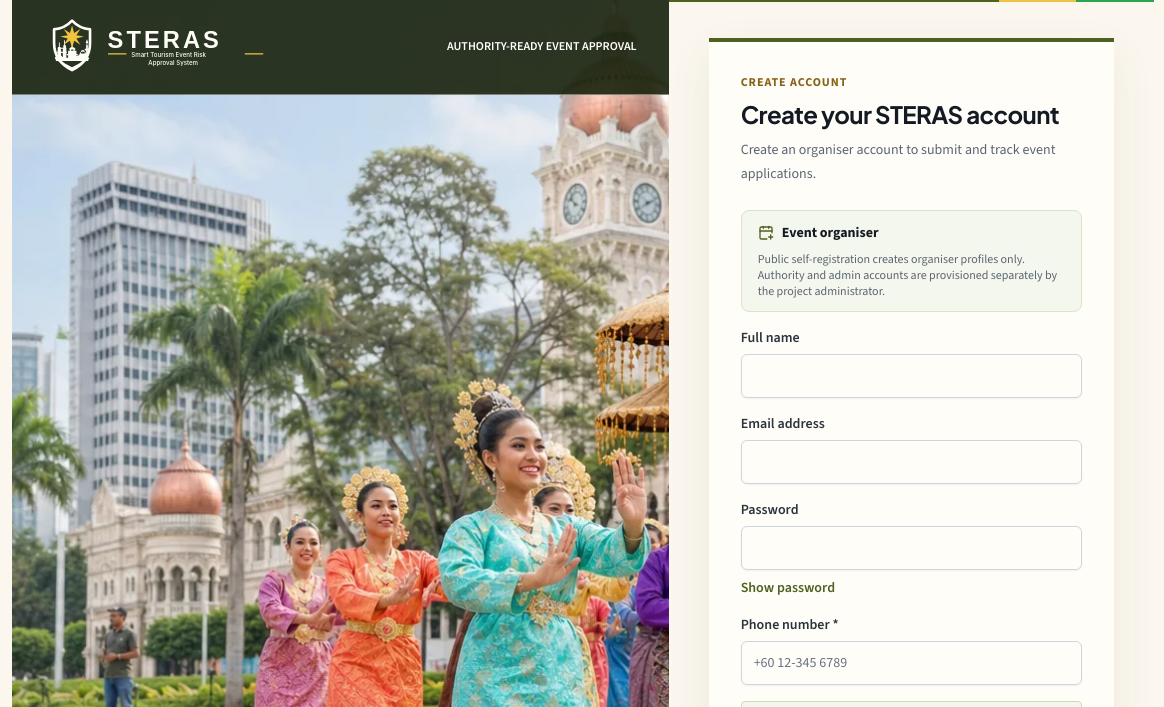
Test: RegisterPage › preserves input and re-enables submission when registration fails
Step 1. Type "Test Organizer" into the field labelled "Full name" → (911, 376), box [741,354,1082,398]
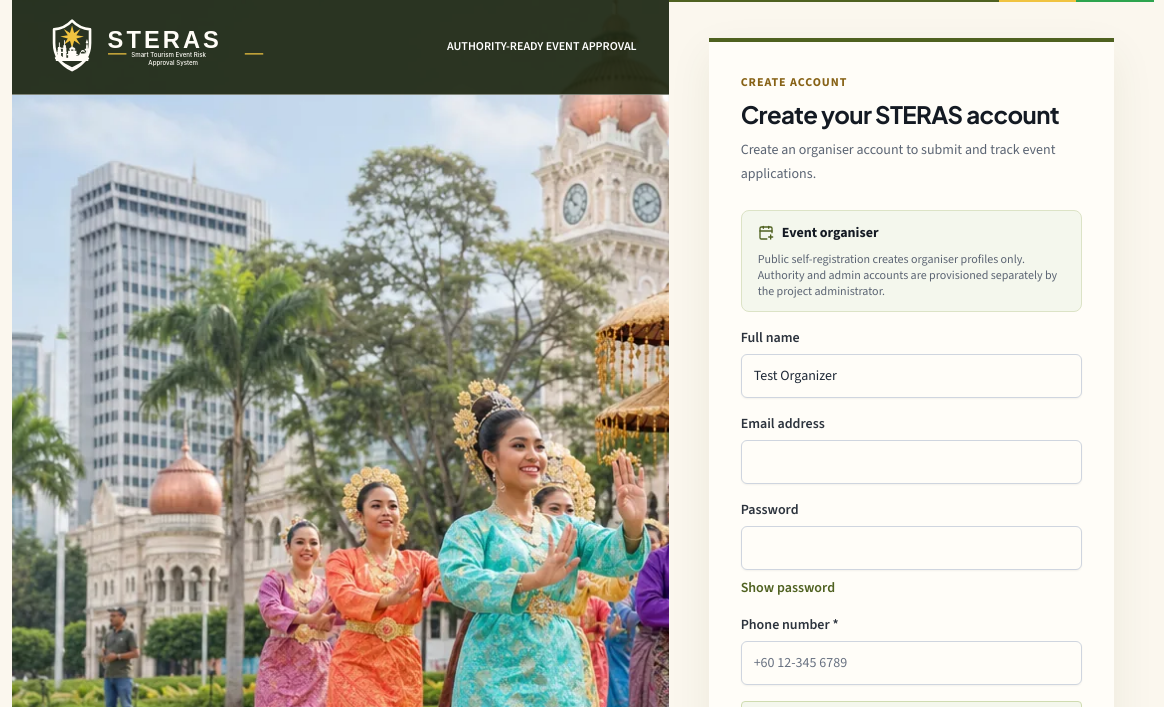
Step 2. Type "test@example.com" into the field labelled "Email address" → (911, 462), box [741,440,1082,484]
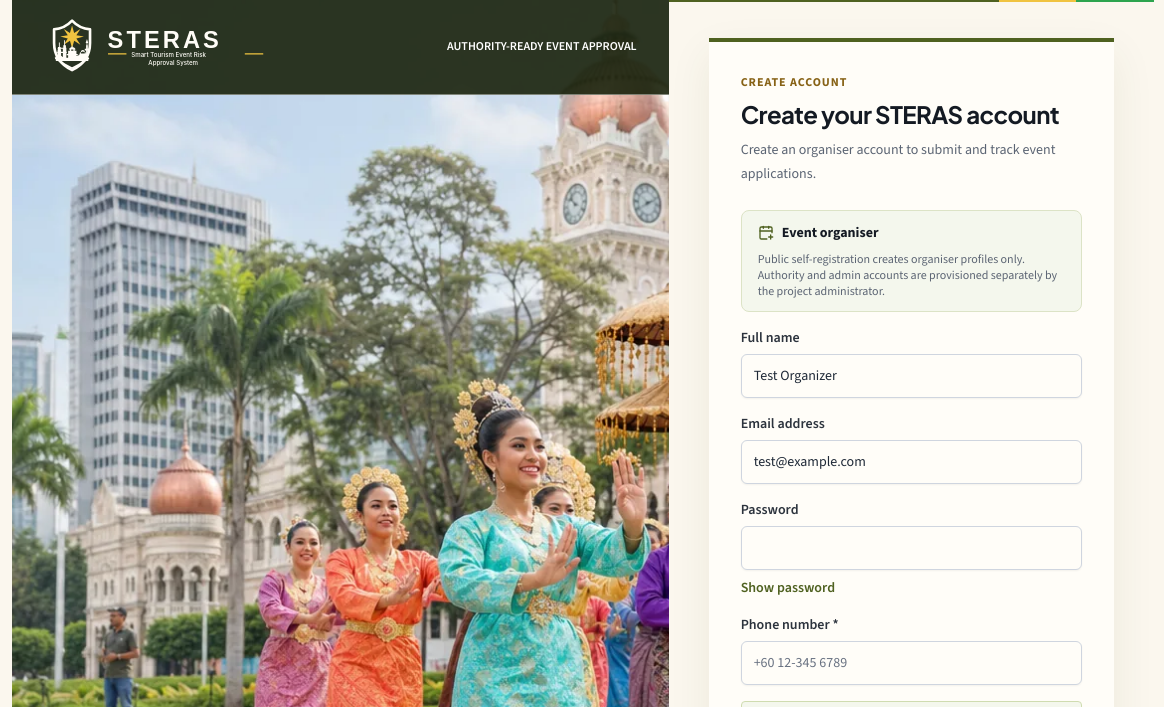
Step 3. Type "Password123!" into the password field labelled "Password" → (911, 548), box [741,526,1082,570]
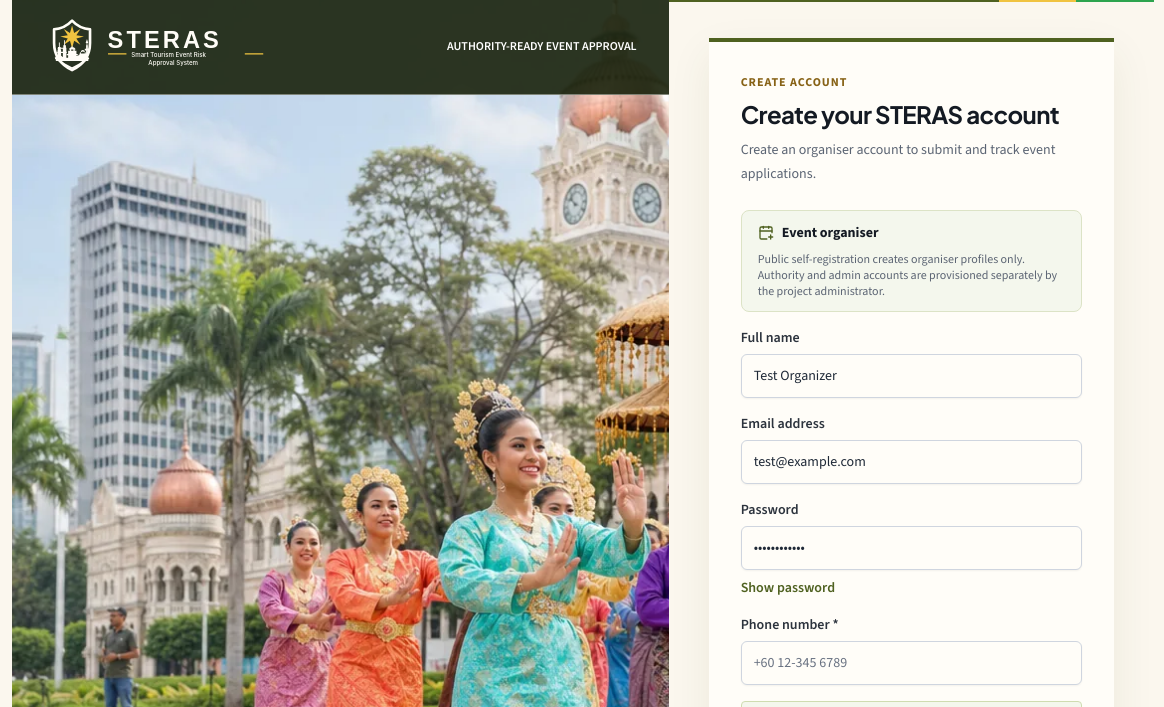
Step 4. Type "0123456789" into the field labelled "Phone number *" → (911, 663), box [741,641,1082,685]
(page scrolled)
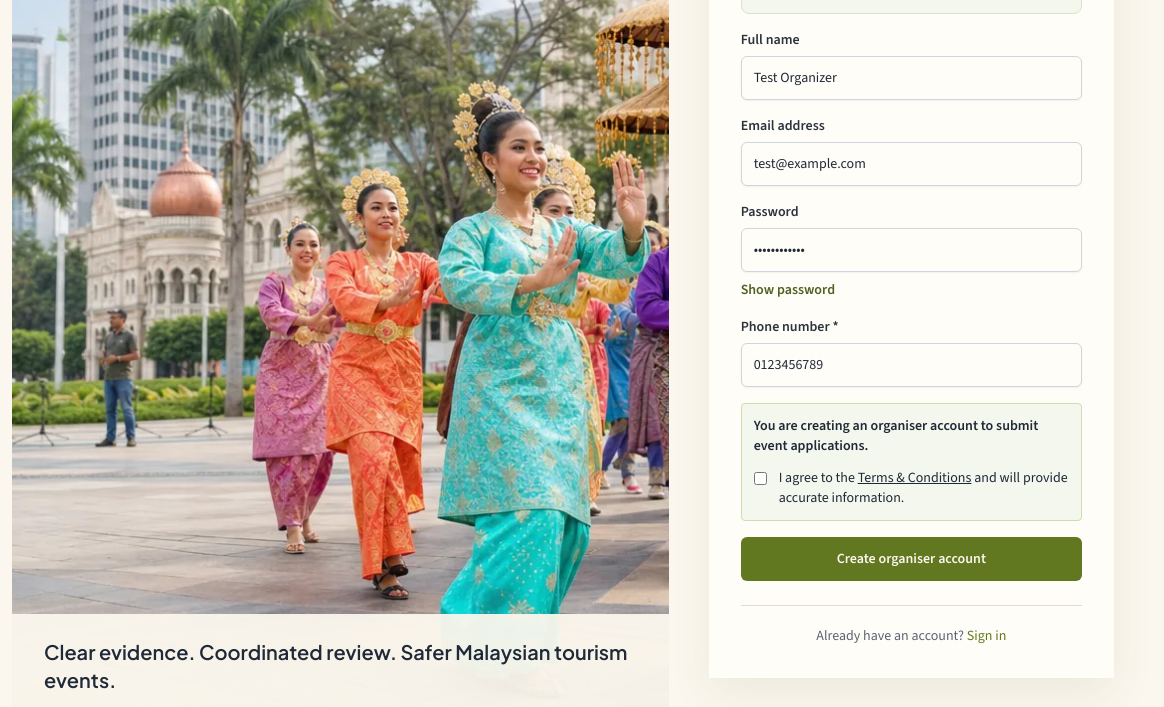
Step 5. Click the checkbox → (760, 478), box [754,472,767,485]
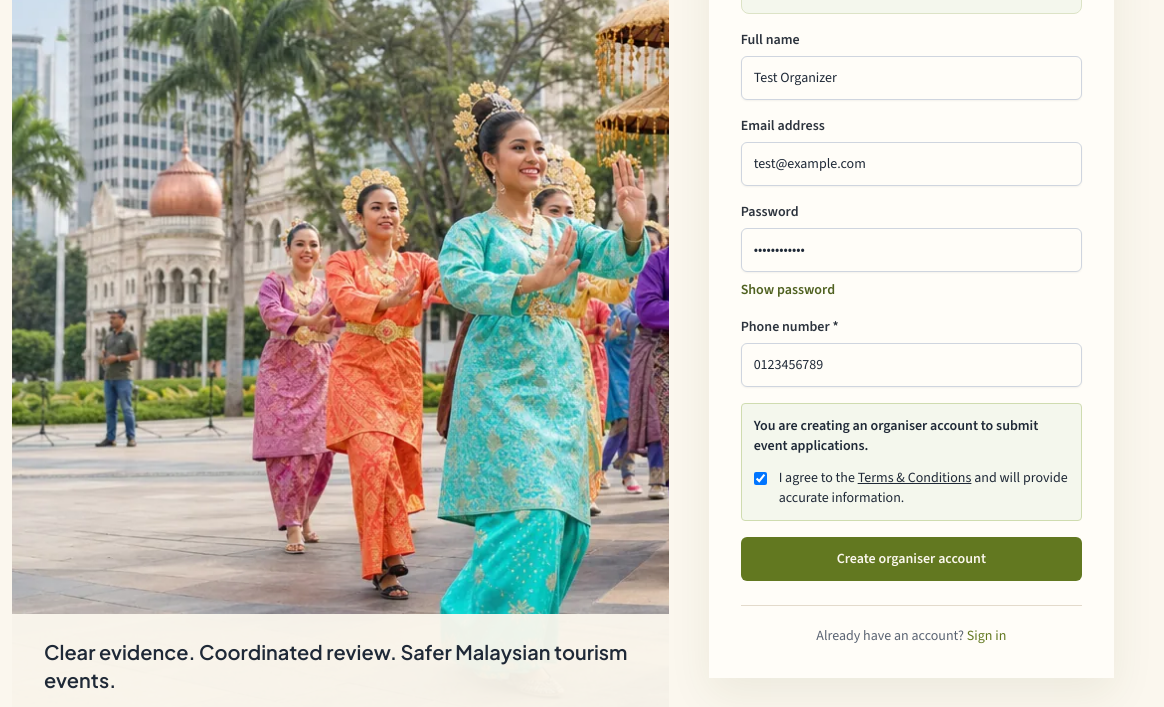
Step 6. Click the button "Create organiser account" → (911, 559), box [741,537,1082,581]
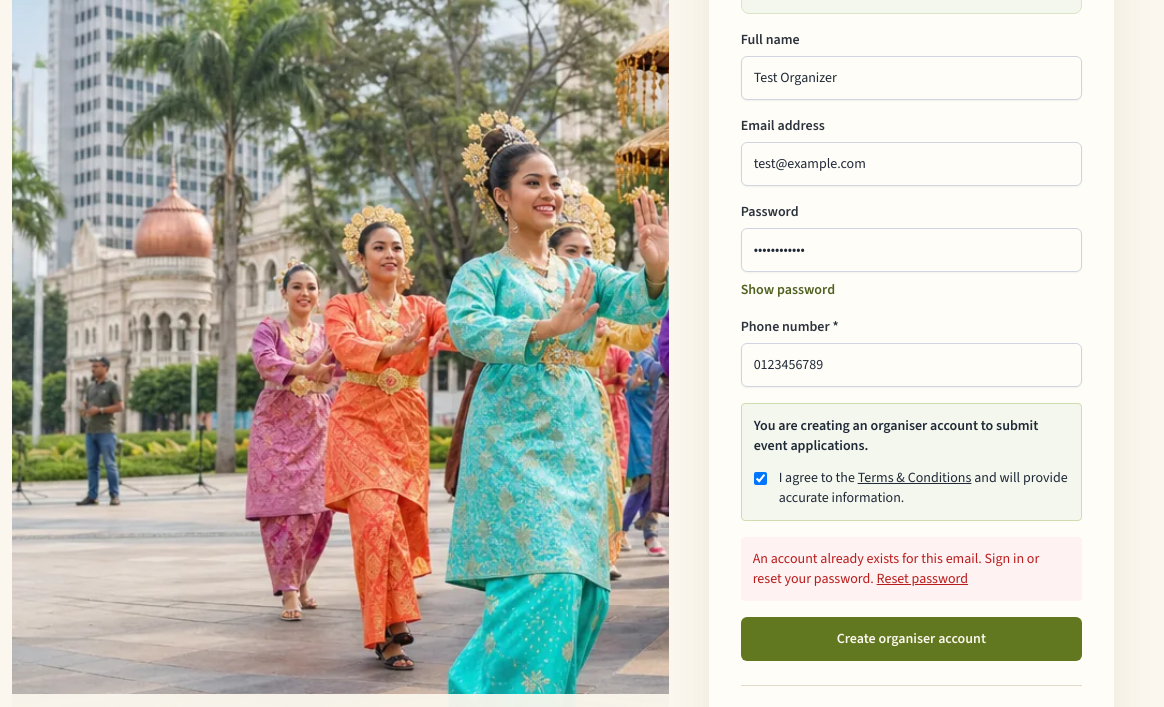
Expected: the button "Create organiser account" is enabled, [741,617,1082,661]
Expected: the message shows "already exists", [753,549,1039,588]
